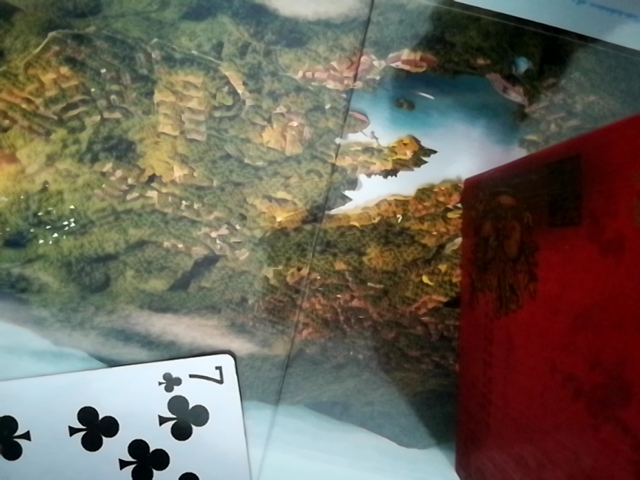mh 7: (1, 349, 252, 480)
